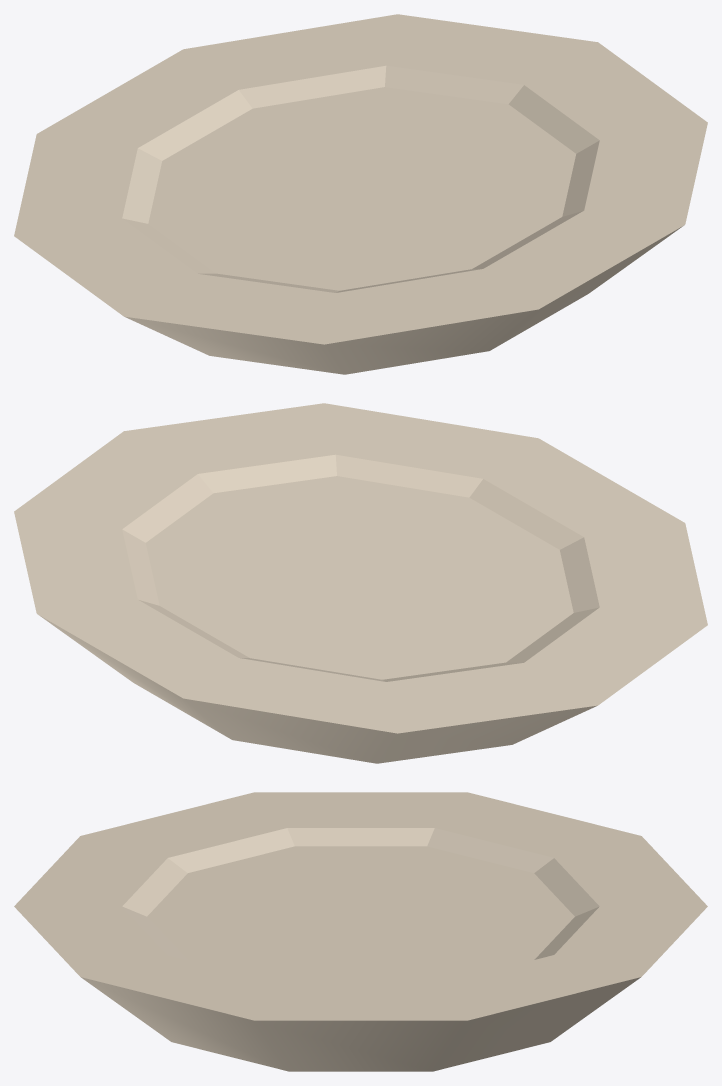
Rendered from ASSIETTE.fbx.
The picture shows the model from 3 angles, top to bottom: view 1: azimuth 30°, elevation 25°; view 2: azimuth 150°, elevation 25°; view 3: azimuth 270°, elevation 25°; orthographic projection. The views are drawn at different scales.
Parts seen in each view (by area): view 1: bkacground1:polySurface161; view 2: bkacground1:polySurface161; view 3: bkacground1:polySurface161.
Part boxes in pixels (bbox=[...]): bkacground1:polySurface161: bbox=[14, 14, 707, 374]; bkacground1:polySurface161: bbox=[14, 403, 707, 763]; bkacground1:polySurface161: bbox=[14, 792, 707, 1071].
Size of the model in its own units: 21.56 by 4.55 by 22.73.
